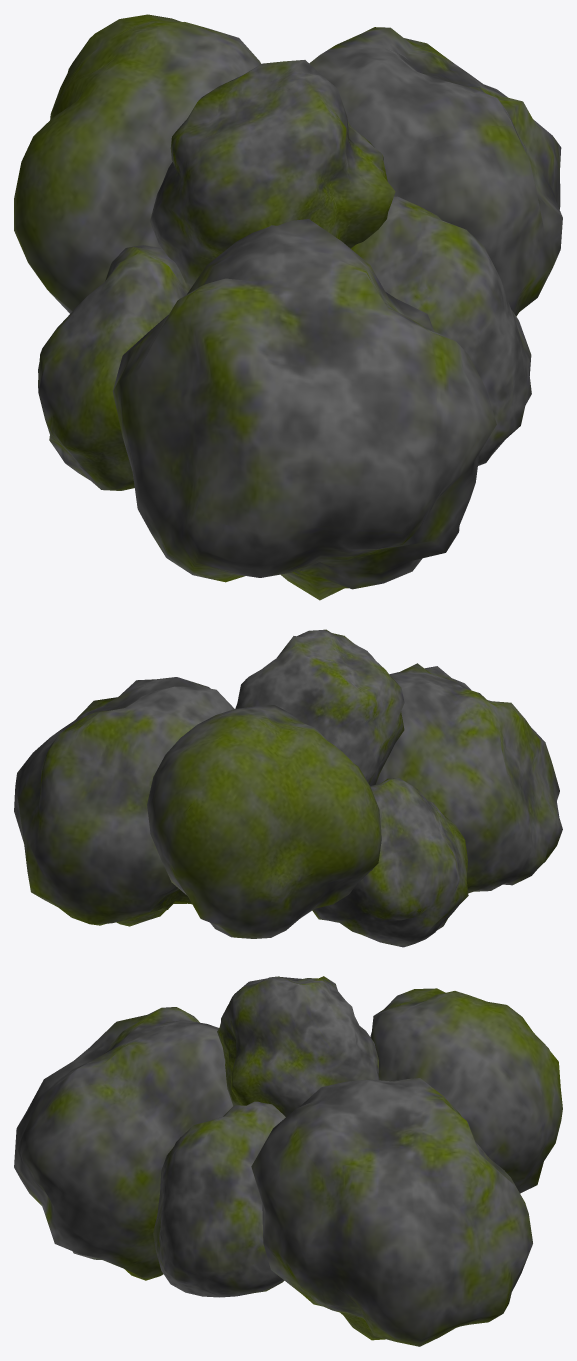
File: A_BoulderOutcropMossyMedium_8.glb
The picture shows the model from 3 angles, top to bottom: view 1: azimuth 30°, elevation 25°; view 2: azimuth 150°, elevation 25°; view 3: azimuth 270°, elevation 25°; orthographic projection. The views are drawn at different scales.
Parts seen in each view (by area): view 1: BoulderOutcropMossyMedium_8; view 2: BoulderOutcropMossyMedium_8; view 3: BoulderOutcropMossyMedium_8.
Boxes of the visible parts, <box> form: BoulderOutcropMossyMedium_8: <box>14,14,562,600</box>; BoulderOutcropMossyMedium_8: <box>14,629,562,947</box>; BoulderOutcropMossyMedium_8: <box>14,976,562,1346</box>.
Size of the model in its own units: 5.22 by 3.74 by 5.87.
1 material, 1 textured.
